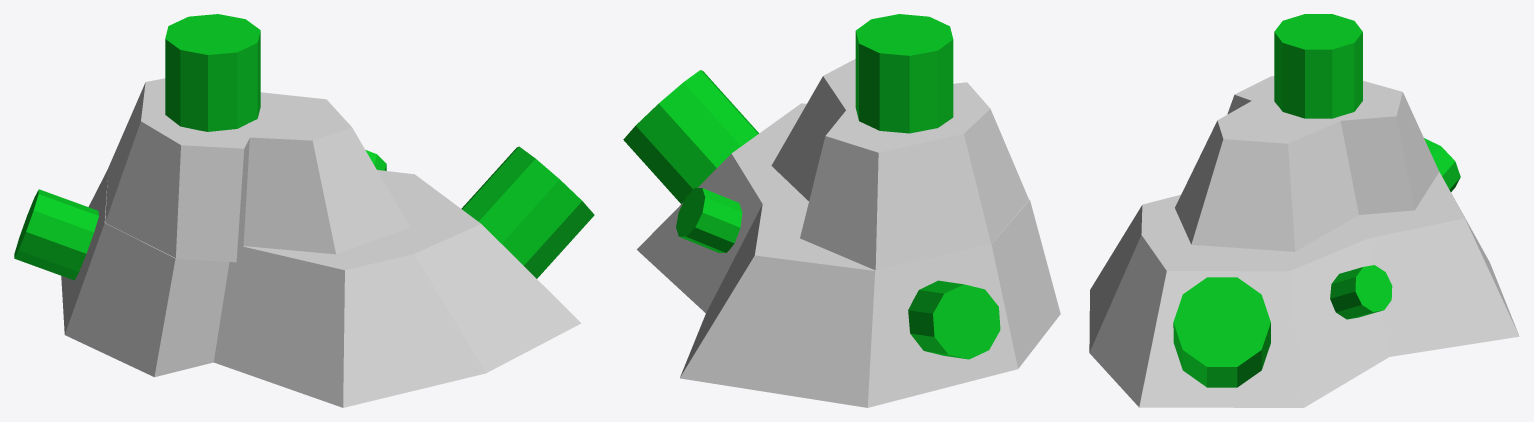
The model's file is Esmeralda_Tipo1.fbx.
3 renders of one model, left to right at view 1: azimuth 30°, elevation 25°; view 2: azimuth 150°, elevation 25°; view 3: azimuth 270°, elevation 25°, orthographic. The views are drawn at different scales.
Visible parts, largest first — view 1: base.001, esmeralda, Cylinder.005, Cylinder.006; view 2: base.001, esmeralda, Cylinder.005, Cylinder.006, Cylinder.007; view 3: base.001, Cylinder.005, esmeralda, Cylinder.007, Cylinder.006.
Boxes of the visible parts, x1,y1,x2,y2 form: base.001: (61, 78, 581, 407); esmeralda: (165, 14, 260, 131); Cylinder.005: (461, 146, 594, 278); Cylinder.006: (14, 189, 98, 280); base.001: (636, 59, 1060, 407); esmeralda: (855, 14, 953, 133); Cylinder.005: (623, 70, 758, 203); Cylinder.006: (908, 280, 1000, 359); Cylinder.007: (676, 188, 742, 252); base.001: (1089, 76, 1519, 407); Cylinder.005: (1173, 277, 1270, 387); esmeralda: (1274, 14, 1362, 118); Cylinder.007: (1330, 265, 1392, 319); Cylinder.006: (1424, 138, 1460, 191).
Bounding box in the file's own units: 153 × 89.29 × 136.
